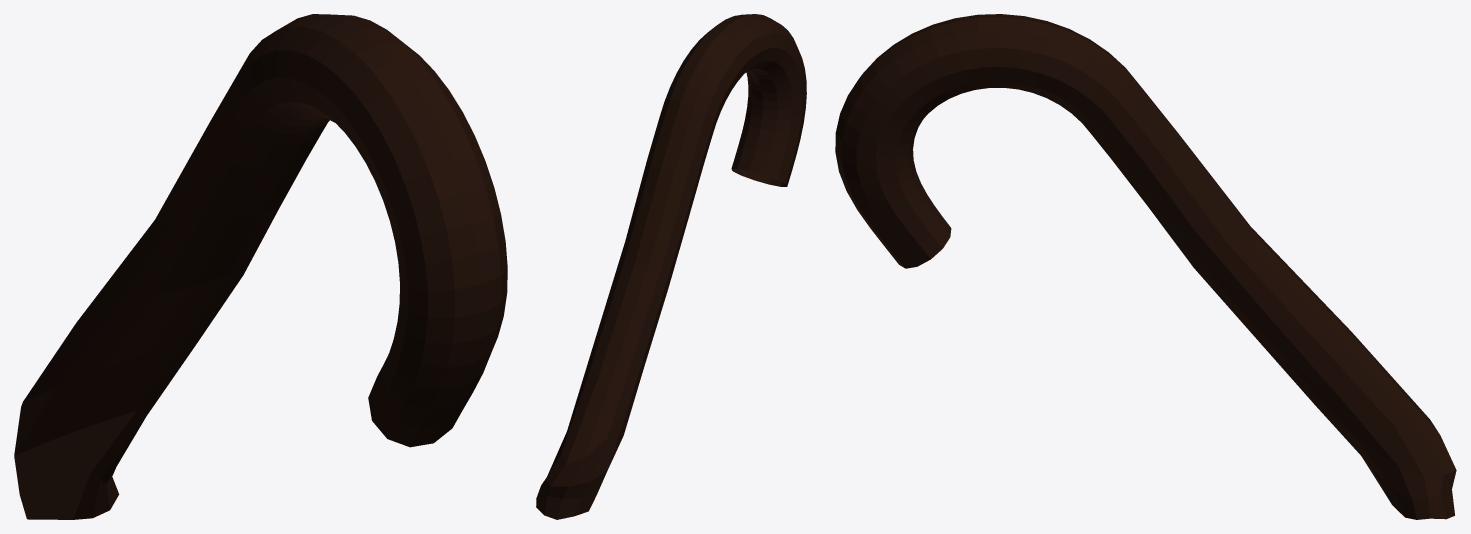
The model's file is GR_Special2.fbx.
3 views of the same model, side by side, from view 1: azimuth 30°, elevation 25°; view 2: azimuth 150°, elevation 25°; view 3: azimuth 270°, elevation 25° (orthographic). The views are drawn at different scales.
Visible parts, largest first — view 1: Torus.002; view 2: Torus.002; view 3: Torus.002.
Boxes of the visible parts, x1,y1,x2,y2 form: Torus.002: (14, 14, 507, 519); Torus.002: (536, 14, 806, 519); Torus.002: (835, 14, 1456, 519).
Bounding box in the file's own units: 62.55 × 359 × 411.
